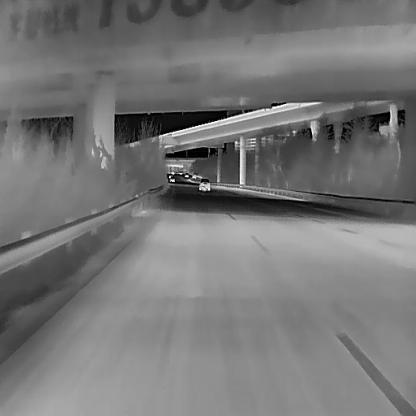car: (198, 178, 210, 190)
